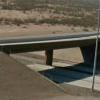Bridge: (4, 30, 97, 56)
